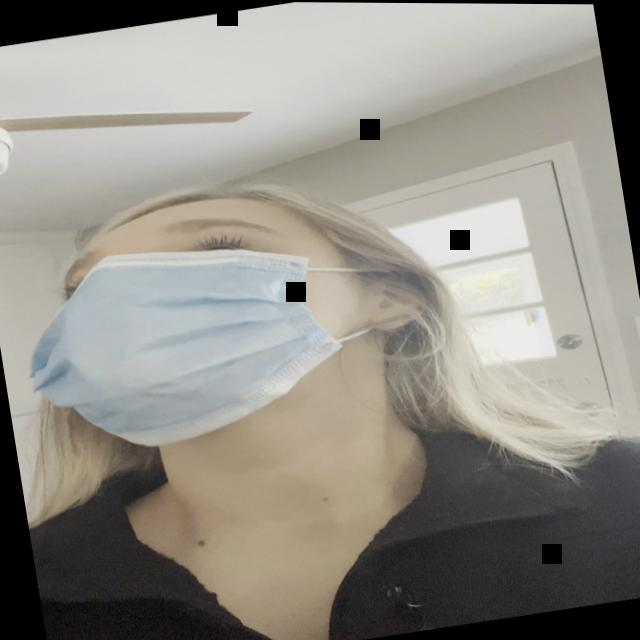Mask: (8, 151, 485, 486)
